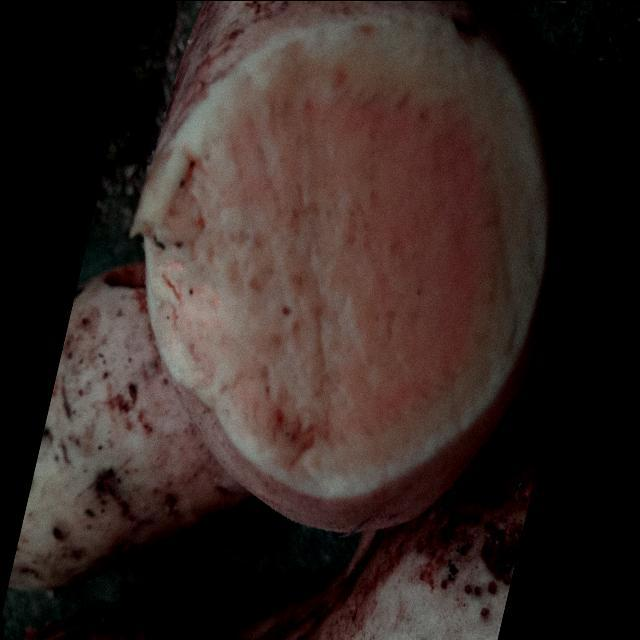Healthy Sweet Potato: (131, 2, 566, 498)
